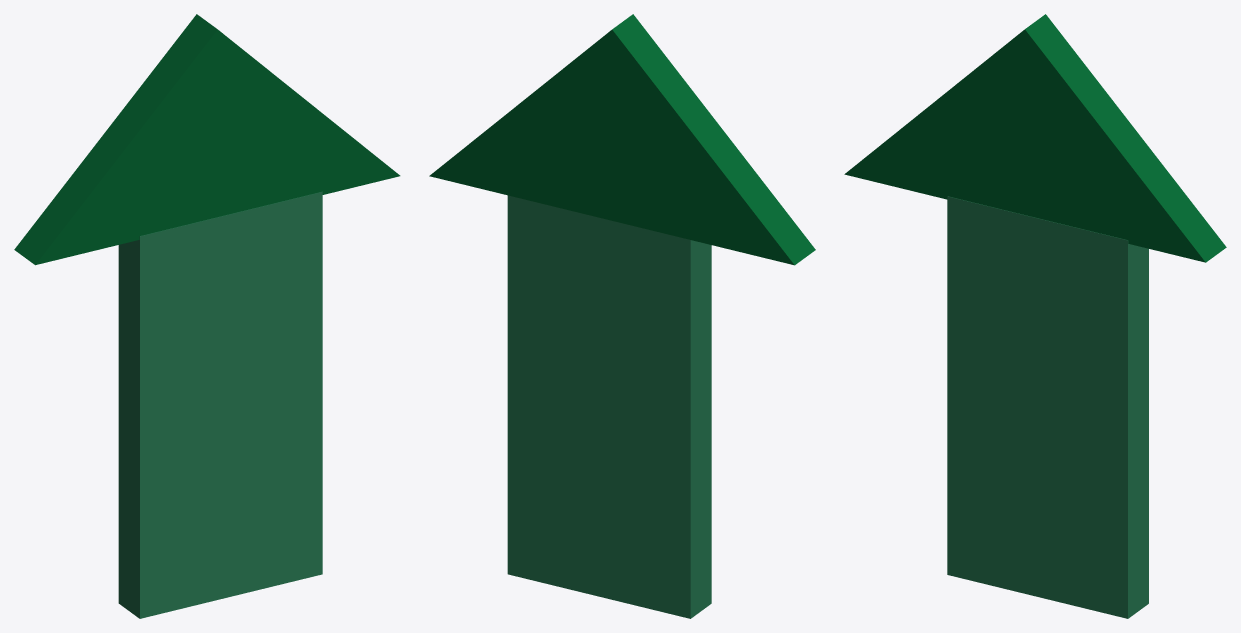
Rendered from arrow-up.dae.
The picture shows the model from 3 angles, left to right: view 1: azimuth 30°, elevation 25°; view 2: azimuth 150°, elevation 25°; view 3: azimuth 330°, elevation 25°; orthographic projection.
Visible parts, largest first — view 1: Box, Box1; view 2: Box, Box1; view 3: Box, Box1.
Part boxes in pixels (bbox=[...]): Box: bbox=[118, 191, 322, 618]; Box1: bbox=[14, 14, 400, 265]; Box: bbox=[507, 195, 711, 618]; Box1: bbox=[429, 14, 815, 265]; Box: bbox=[947, 196, 1148, 618]; Box1: bbox=[844, 14, 1226, 262].
Size of the model in its own units: 1 by 1.49 by 0.1012.
